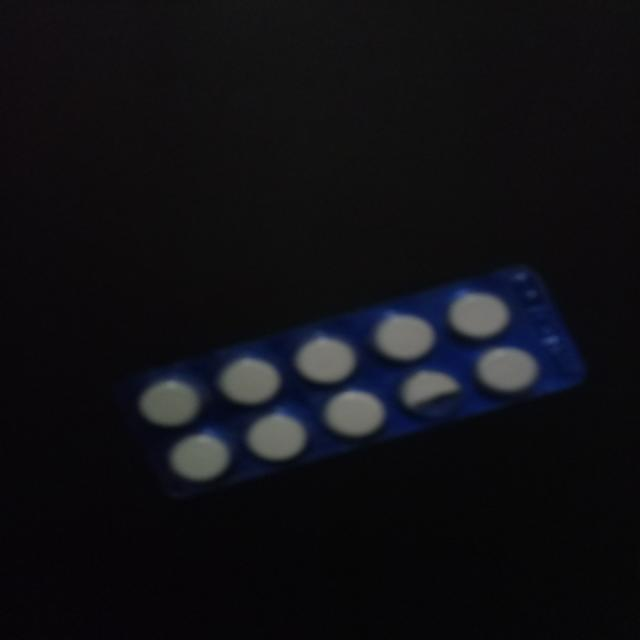defect: (393, 368, 467, 421)
